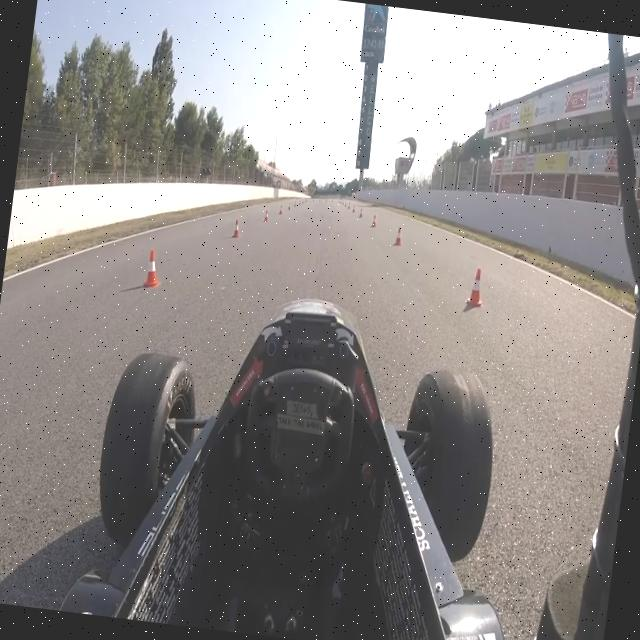orange_cone: (463, 263, 488, 309), (141, 244, 164, 292), (228, 216, 243, 242), (392, 225, 404, 248), (370, 212, 377, 229), (262, 209, 270, 223), (276, 203, 284, 216), (358, 206, 363, 218)
